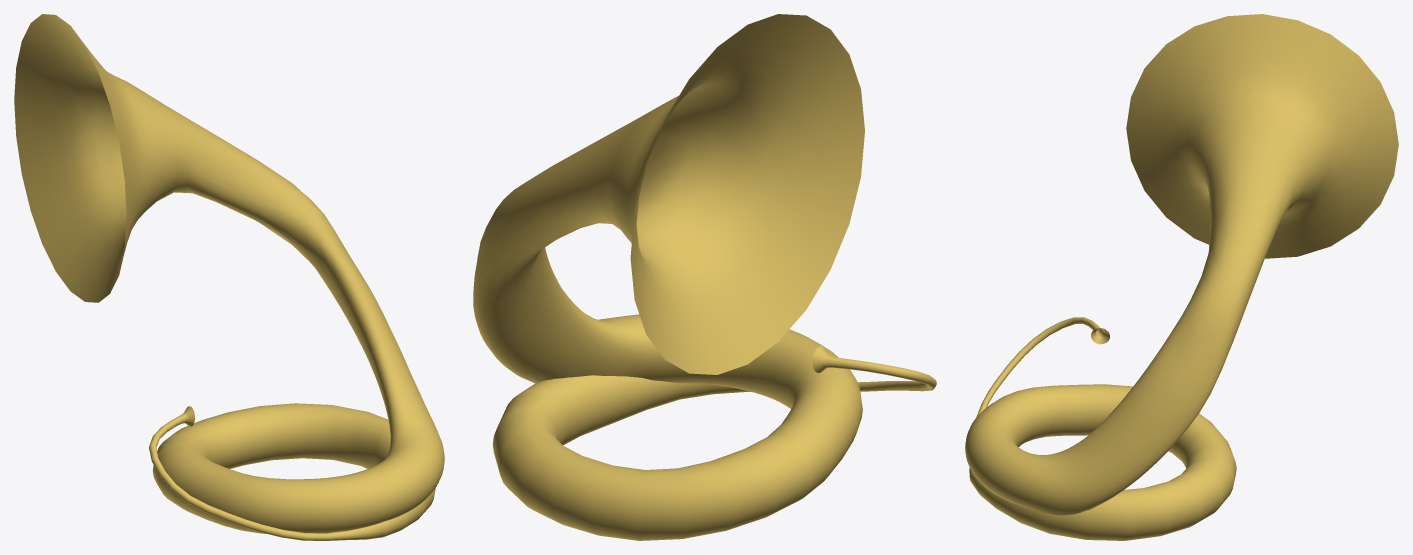
File: tuba.glb
3 renders of one model, left to right at view 1: azimuth 30°, elevation 25°; view 2: azimuth 150°, elevation 25°; view 3: azimuth 270°, elevation 25°, orthographic. The views are drawn at different scales.
Parts seen in each view (by area): view 1: Object_2; view 2: Object_2; view 3: Object_2.
Boxes of the visible parts, box(x1,y1,x2,y2) form: Object_2: box(14, 14, 444, 540); Object_2: box(473, 14, 936, 540); Object_2: box(965, 14, 1398, 540).
Size of the model in its own units: 12.46 by 18.32 by 17.3.
Materials: 1 (1 with a texture image).
